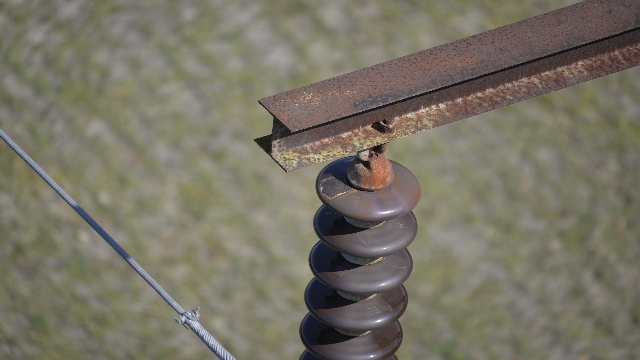insulator_unspecified: (295, 154, 422, 359)
pollution_flashover_local: (320, 171, 357, 200), (384, 255, 413, 272), (358, 226, 374, 245)
